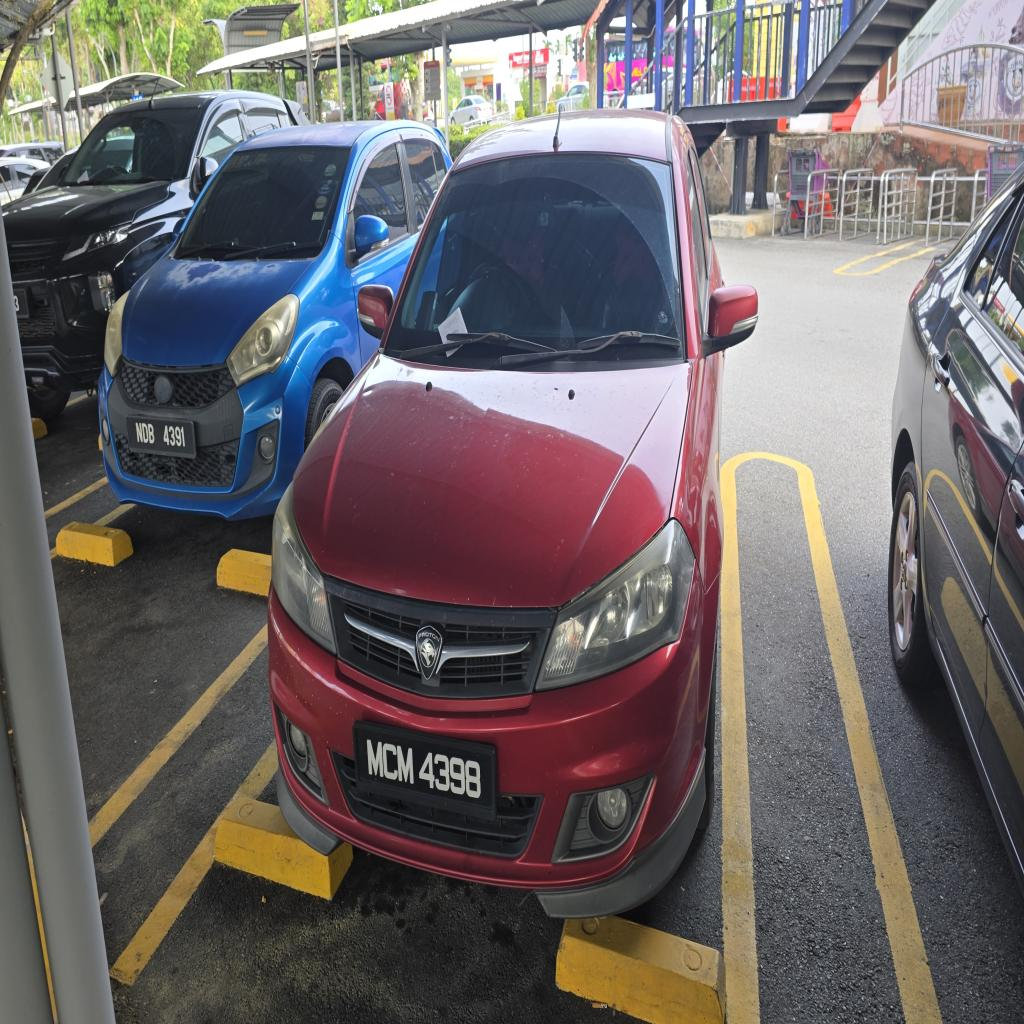car: (269, 112, 757, 917), (99, 122, 449, 518)
car plate: (354, 722, 496, 818), (127, 417, 194, 457)
